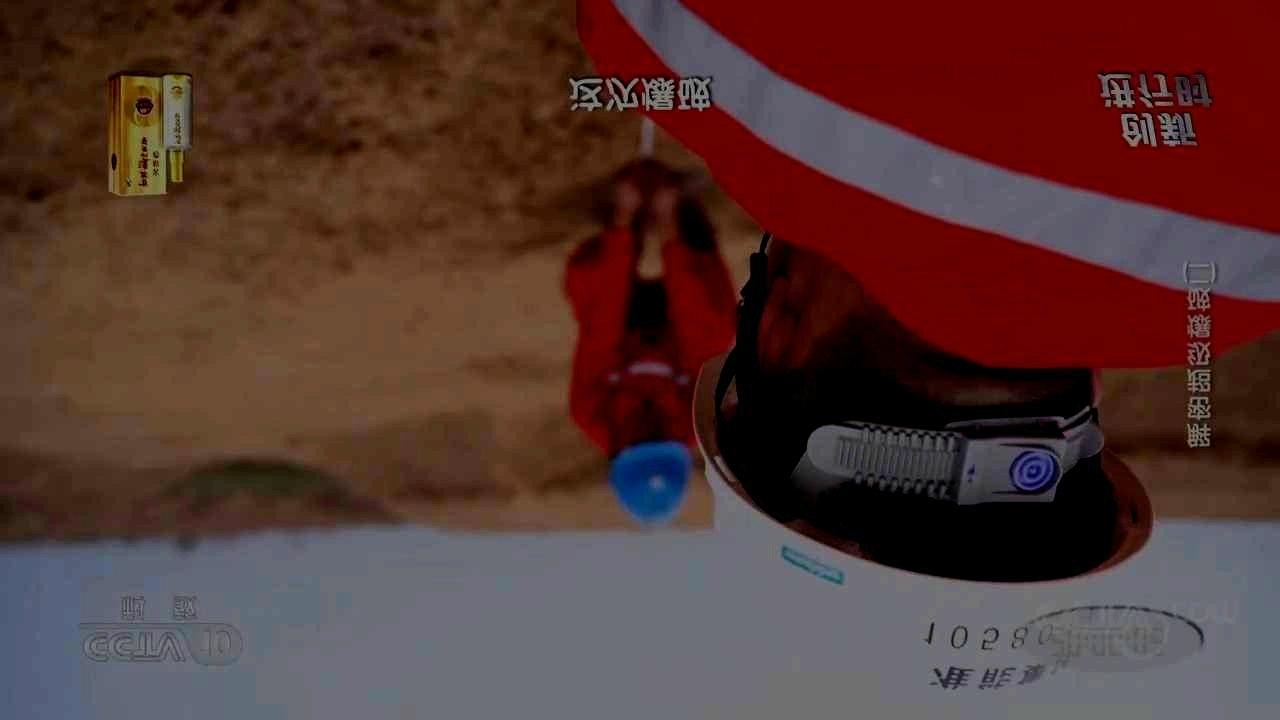helmet: (690, 232, 1155, 710), (605, 398, 695, 528)
